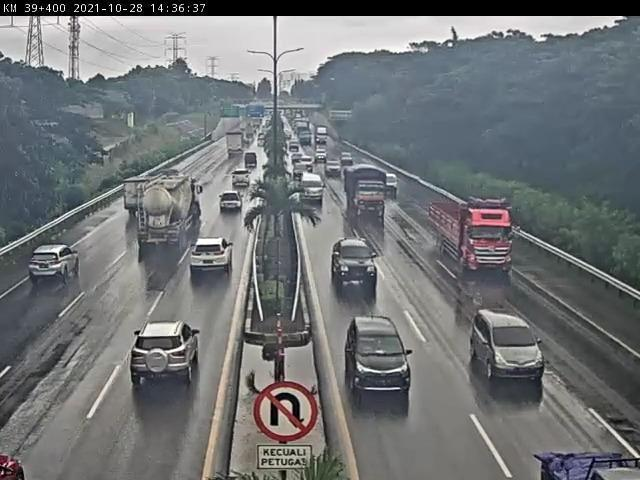car: (517, 408, 640, 479), (479, 312, 560, 398), (115, 314, 204, 384), (350, 325, 409, 405), (324, 226, 383, 285), (26, 240, 76, 288), (187, 231, 233, 280), (299, 176, 324, 206), (218, 196, 245, 218), (234, 167, 257, 191), (324, 160, 342, 179), (383, 169, 396, 195)
truck: (424, 186, 506, 273), (146, 180, 192, 251), (342, 174, 392, 217), (113, 182, 141, 221)
